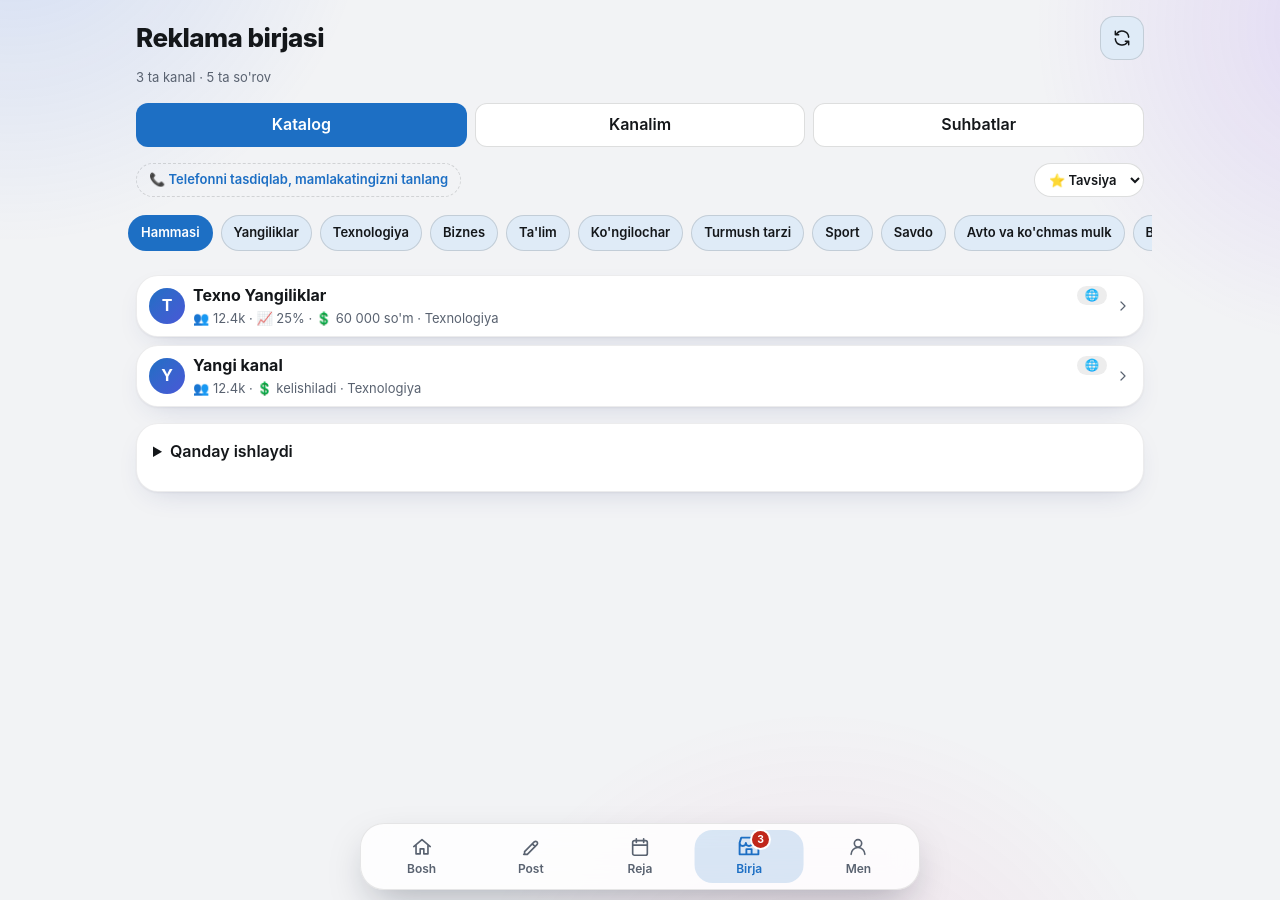
Test: Reklama birjasi (Mini App) › kartada noma'lum ko'rsatkich halol: «ma'lumot yetarli emas», soxta 0 yo'q
Step 1. Click the button "Yangi kanal" → (167, 376), box [136,345,1144,407]
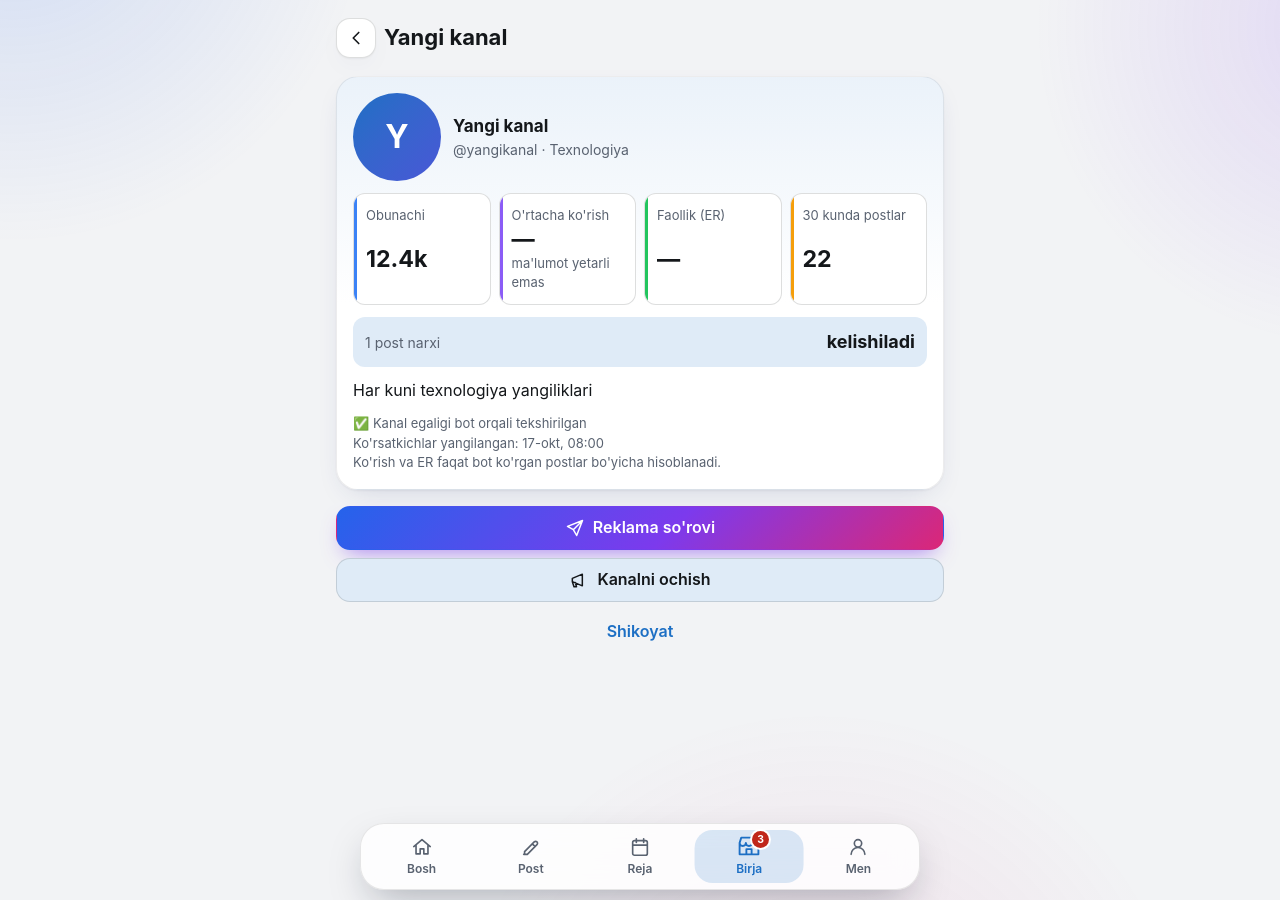
Expected: the text "ma'lumot yetarli emas" is shown, [512,254,623,292]
Expected: the text "✅ Kanal egaligi bot orqali tekshirilgan" is shown, [353,415,721,470]
